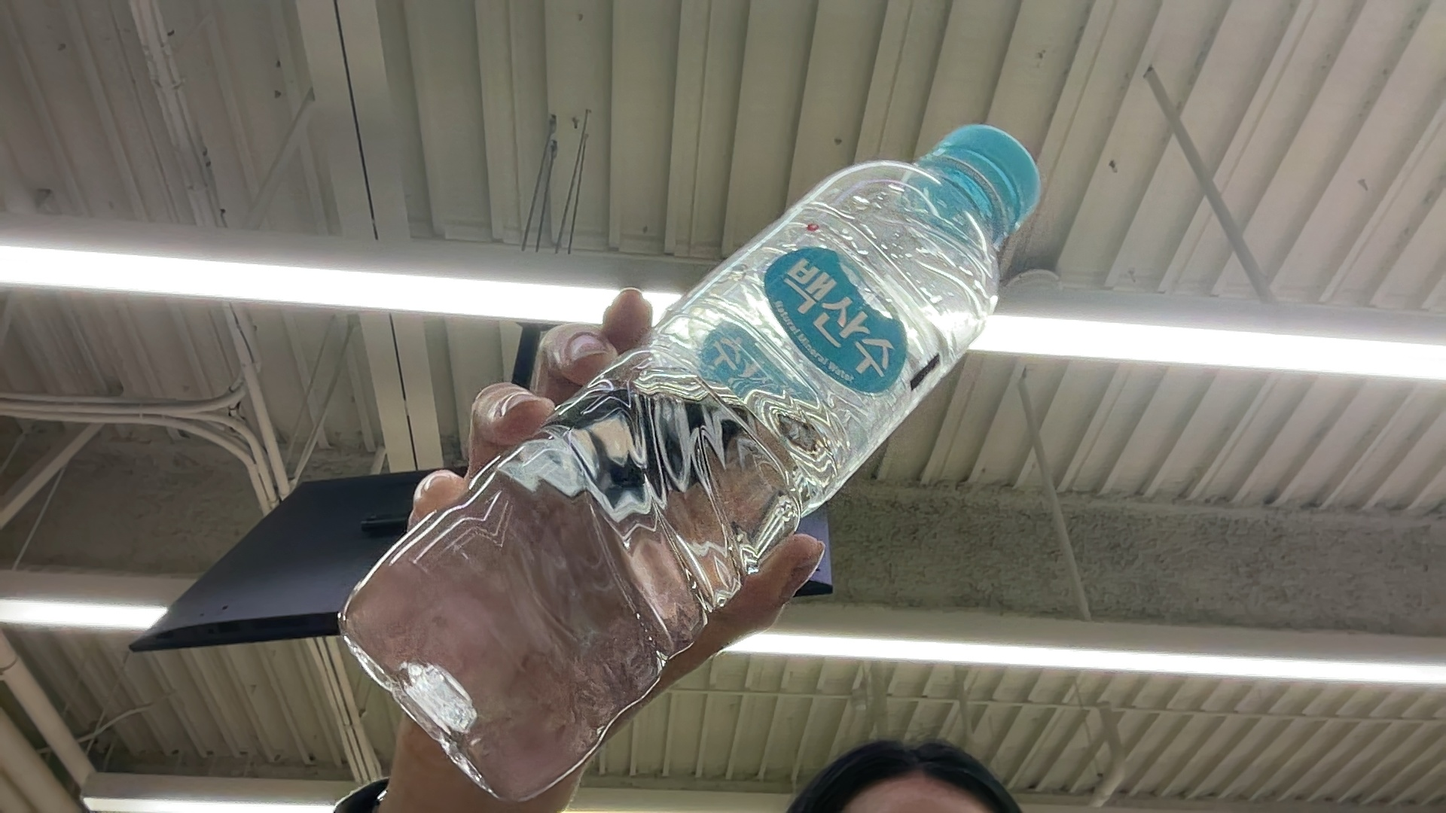Plastic: (292, 95, 1181, 751)
